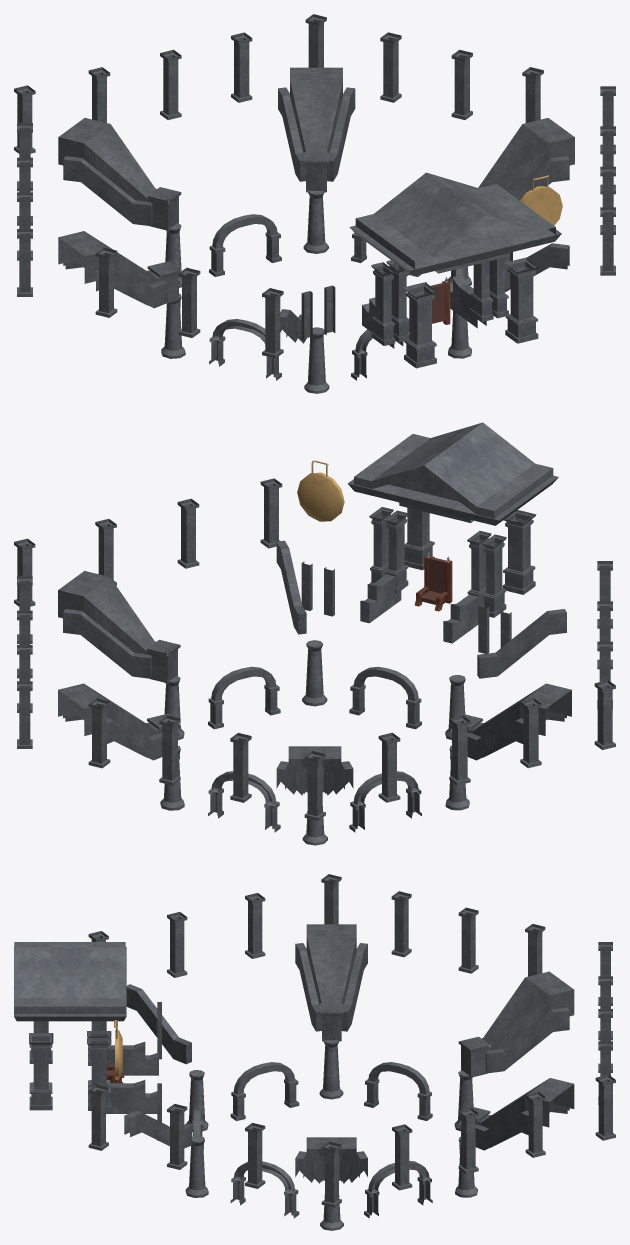
File: jingjz_building_01c.FBX
3 renders of one model, top to bottom at view 1: azimuth 30°, elevation 25°; view 2: azimuth 150°, elevation 25°; view 3: azimuth 270°, elevation 25°, orthographic. The views are drawn at different scales.
Visible parts, largest first — view 1: jingjz_building_01c; view 2: jingjz_building_01c; view 3: jingjz_building_01c.
Boxes of the visible parts, x1,y1,x2,y2 form: jingjz_building_01c: (14,14,615,393); jingjz_building_01c: (14,422,615,845); jingjz_building_01c: (14,874,615,1230).
Bounding box in the file's own units: 353 × 127 × 325.
